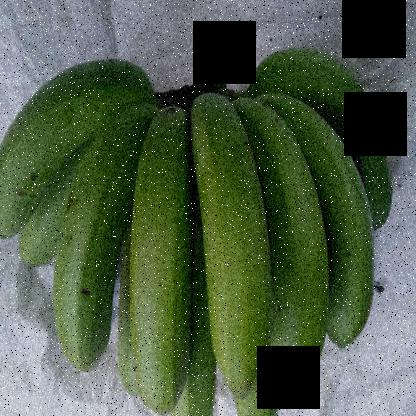freshunripe: (124, 64, 216, 415), (50, 77, 152, 388), (233, 83, 330, 393), (185, 94, 282, 402), (281, 79, 381, 366)
